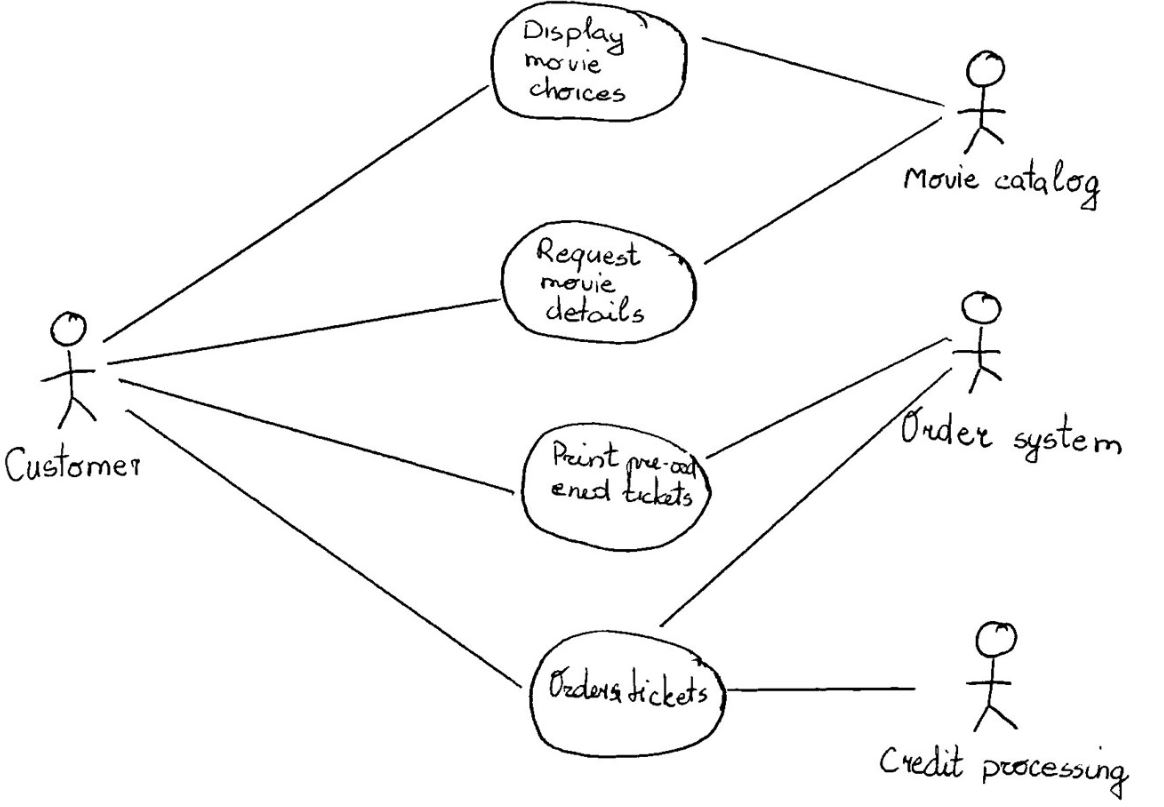actor: (36, 308, 104, 432), (970, 614, 1031, 741), (950, 287, 1010, 401), (956, 37, 1012, 155)
association: (131, 409, 525, 689), (102, 80, 491, 344), (660, 365, 954, 624), (118, 374, 518, 496), (702, 116, 945, 264), (706, 332, 951, 460), (107, 293, 503, 365), (699, 32, 949, 107), (727, 664, 917, 705)
text: (877, 741, 1139, 806), (899, 405, 1140, 466), (896, 158, 1126, 213), (530, 235, 658, 327), (548, 434, 702, 510), (514, 17, 645, 106), (546, 662, 713, 707), (1, 439, 147, 487)
use_case: (521, 420, 713, 553), (528, 629, 726, 757), (500, 220, 697, 347), (491, 1, 687, 123)
